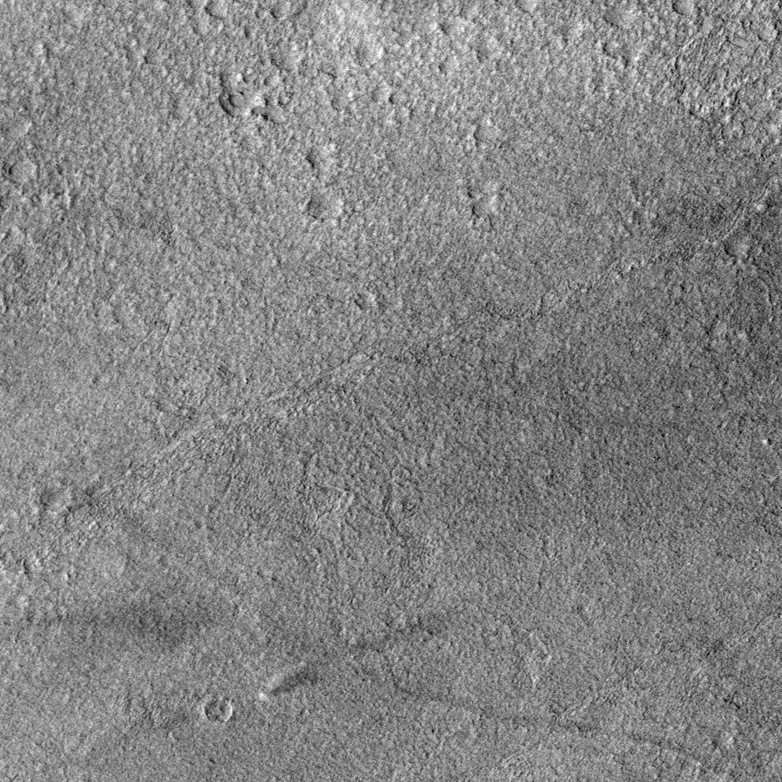dust_devil: (255, 665, 319, 707)
